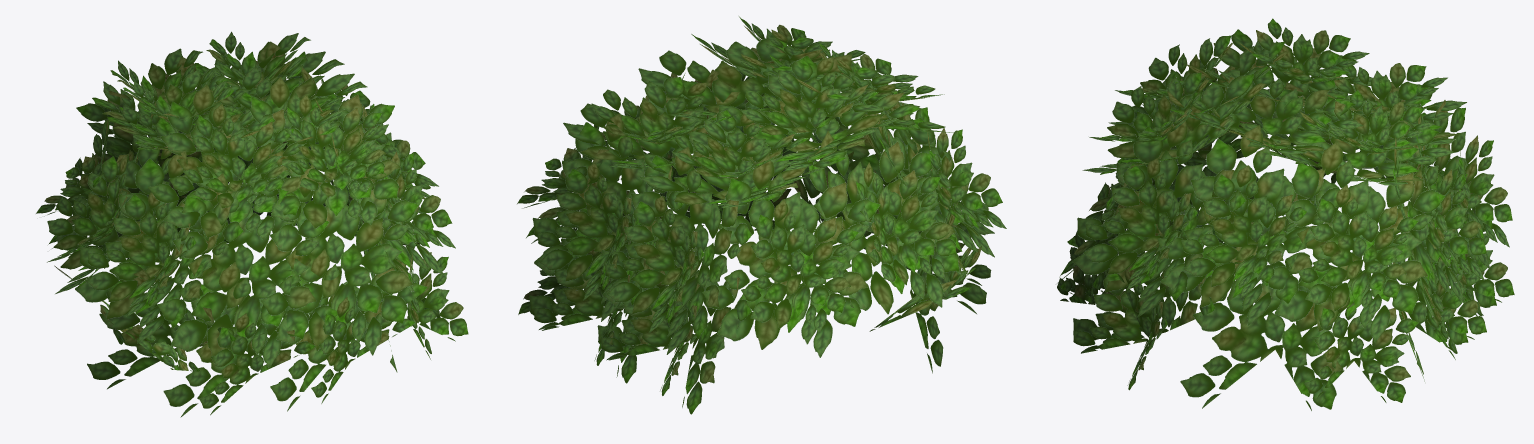
Rendered from shrubberyLOD.fbx.
The picture shows the model from 3 angles, left to right: view 1: azimuth 30°, elevation 25°; view 2: azimuth 150°, elevation 25°; view 3: azimuth 270°, elevation 25°; orthographic projection. The views are drawn at different scales.
Parts seen in each view (by area): view 1: arbustro_LOD0; view 2: arbustro_LOD0; view 3: arbustro_LOD0.
Part boxes in pixels (box(x1,y1,x2,y2)): arbustro_LOD0: box(36, 31, 468, 417); arbustro_LOD0: box(517, 16, 1006, 414); arbustro_LOD0: box(1057, 18, 1514, 410).
Size of what is drawn, in the model's own units: 107 by 72.69 by 105.
